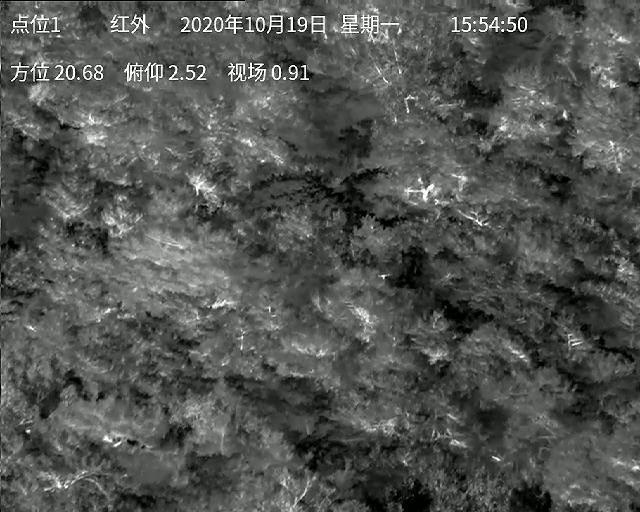uav: (377, 271, 393, 283)
